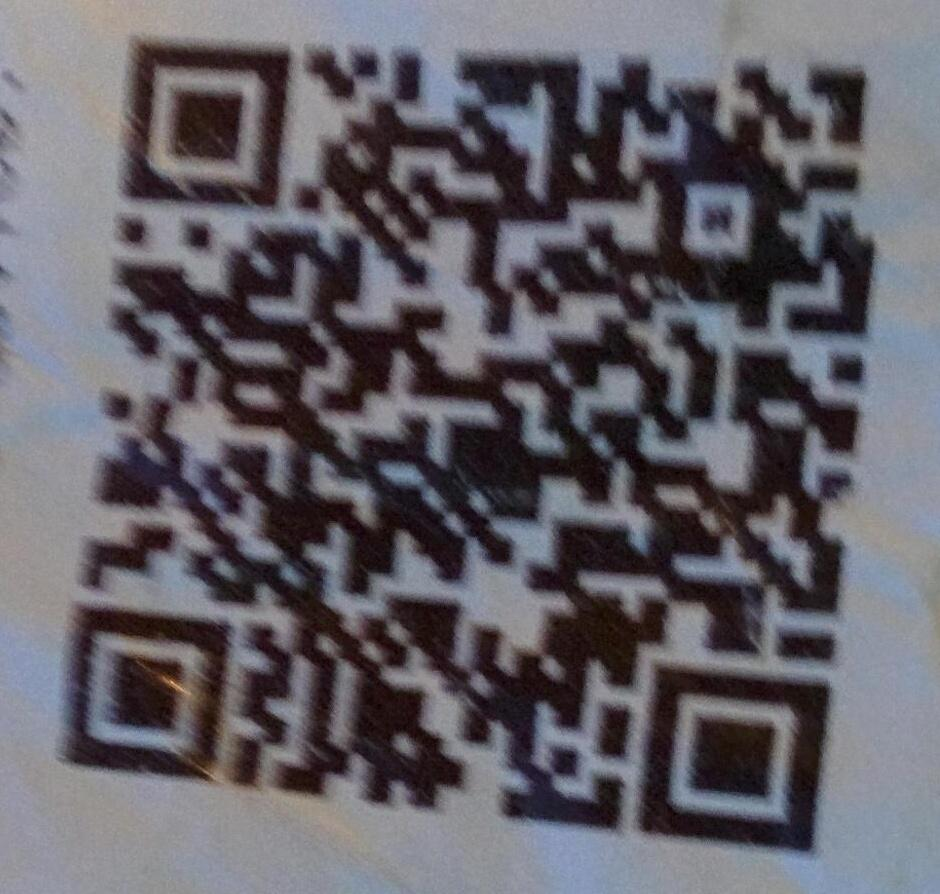qrcode: (60, 43, 879, 856)
